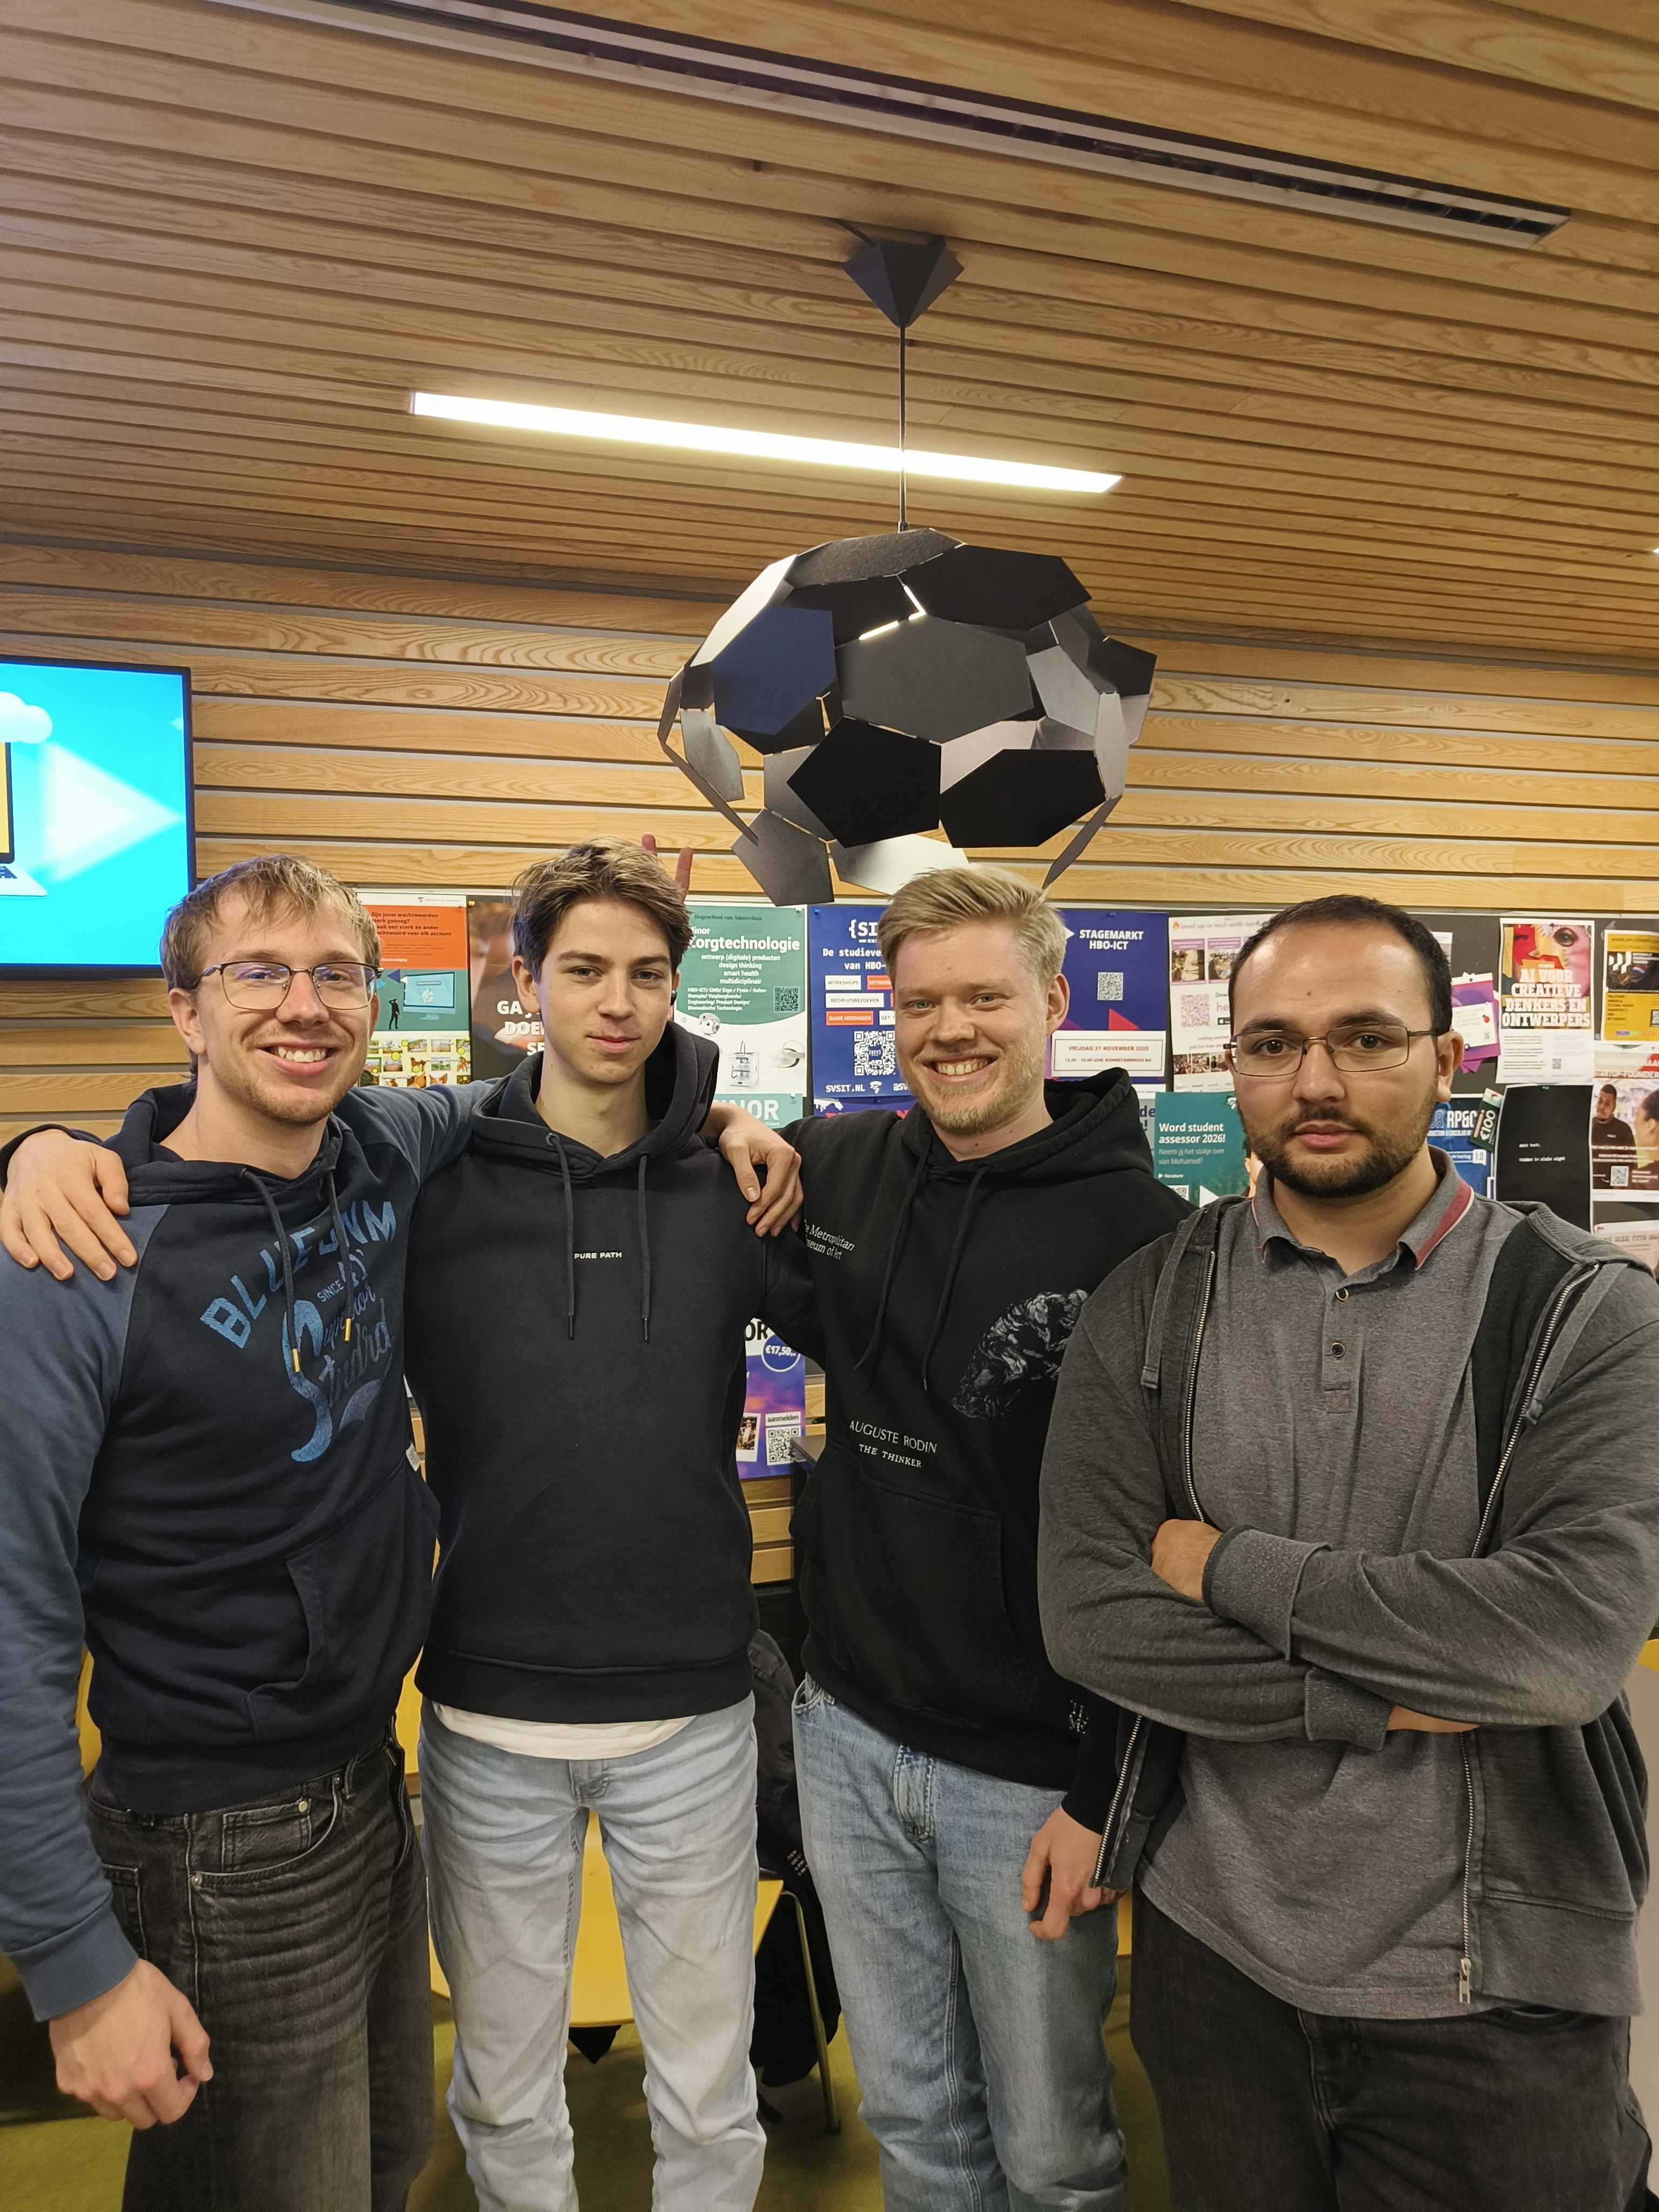face: (842, 865, 1092, 1123), (168, 861, 380, 1145), (1223, 915, 1449, 1176), (488, 834, 703, 1084)
